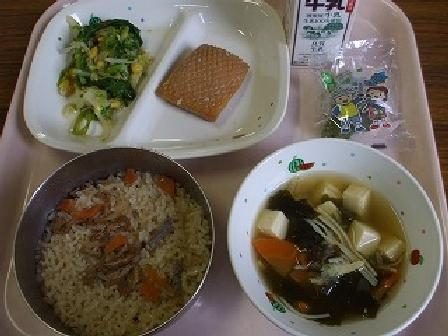Milk: (279, 0, 362, 69)
Mixed rice: (7, 158, 217, 328)
Soups: (225, 144, 446, 333)
cookies: (161, 35, 250, 130)
salad with sauce: (45, 18, 157, 134)
